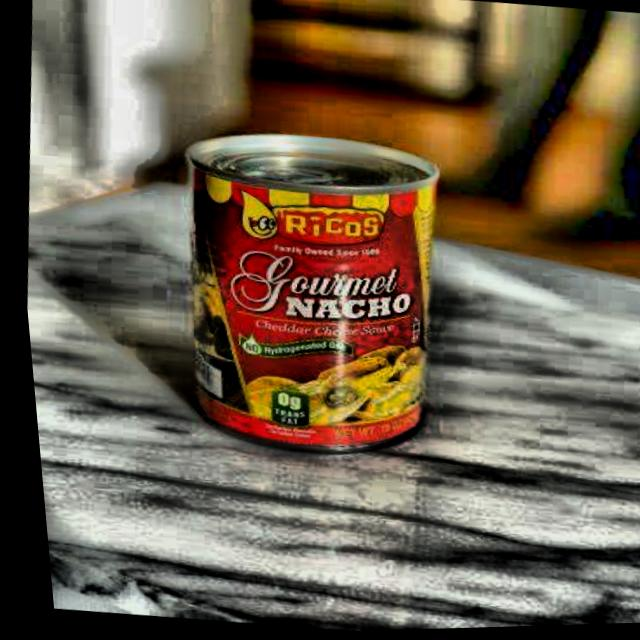Cans: (147, 105, 470, 484)
